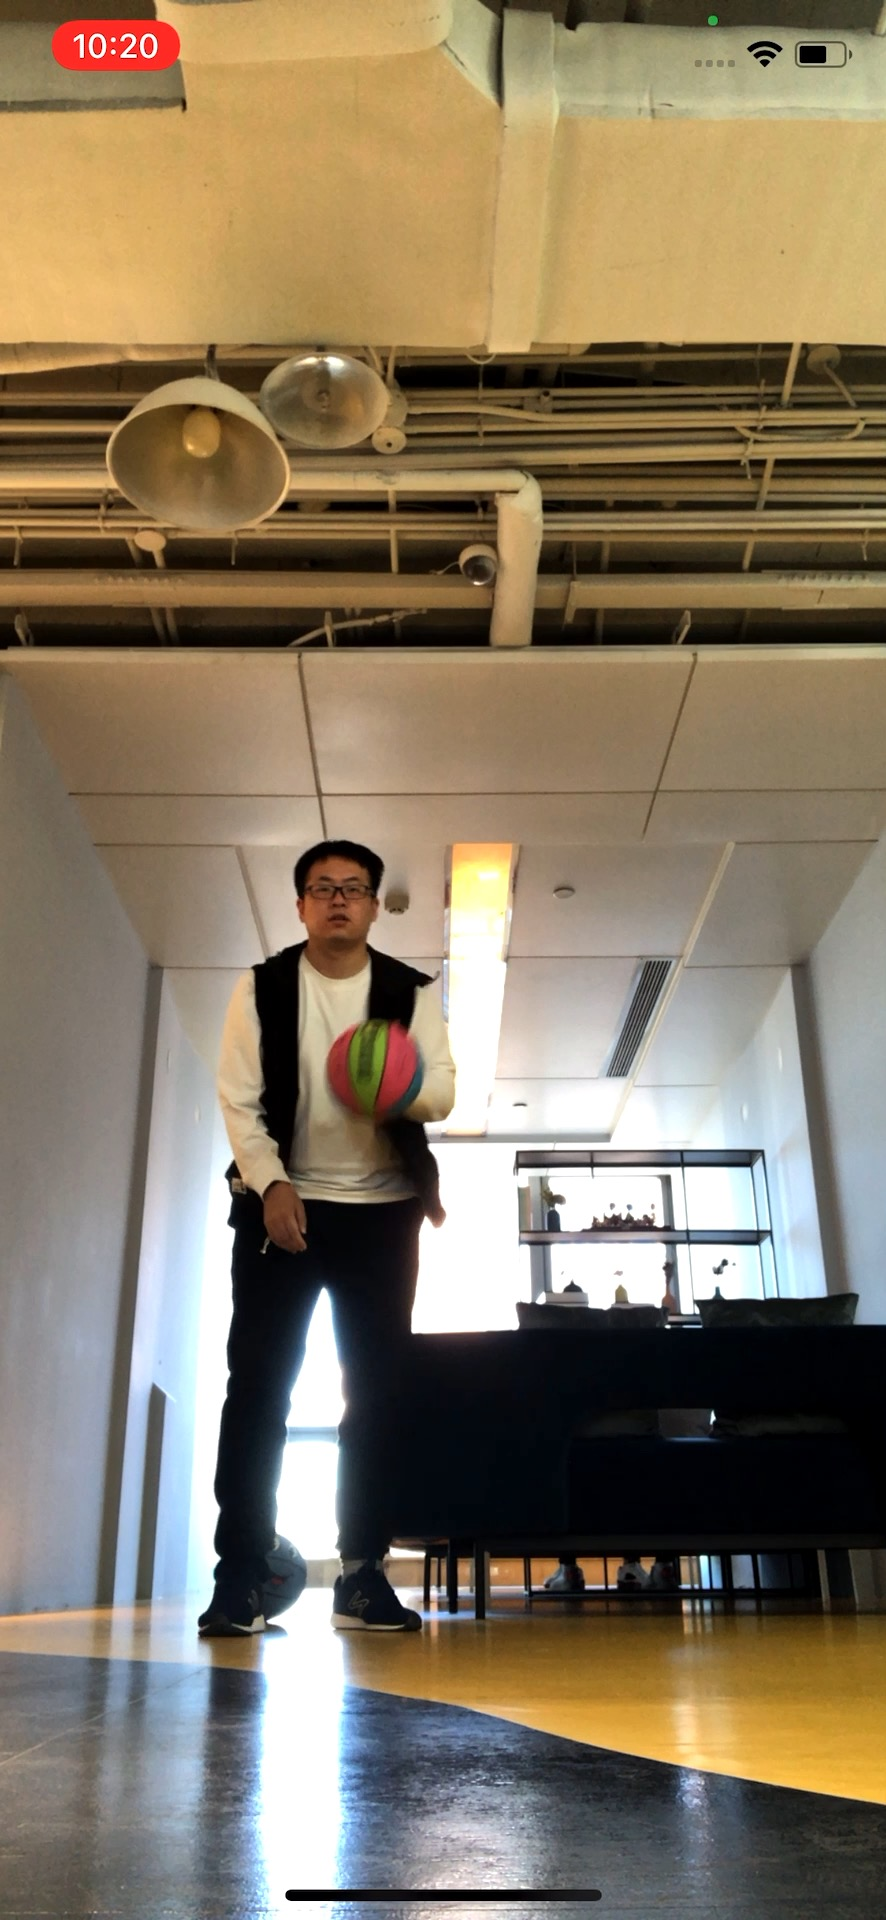ball: (327, 1022, 427, 1120)
